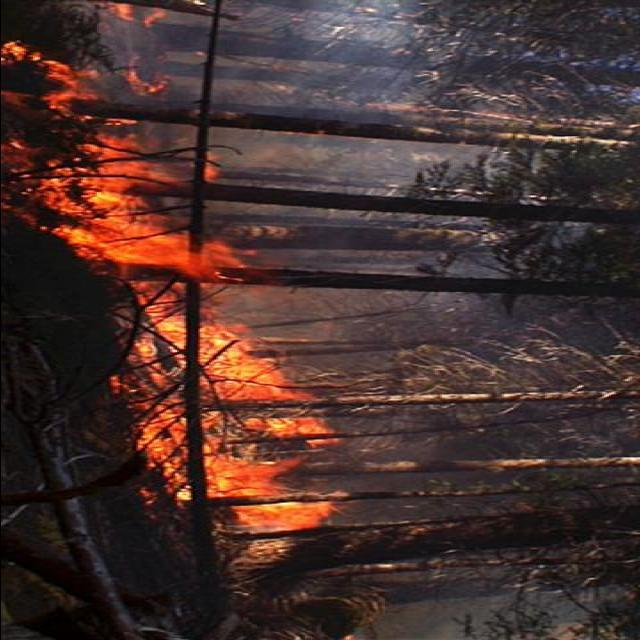Fire: (16, 84, 346, 563)
